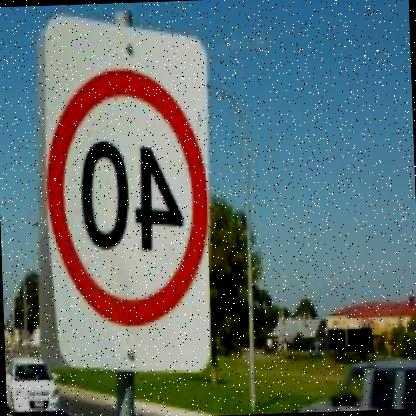speedlimit: (46, 63, 218, 327)
